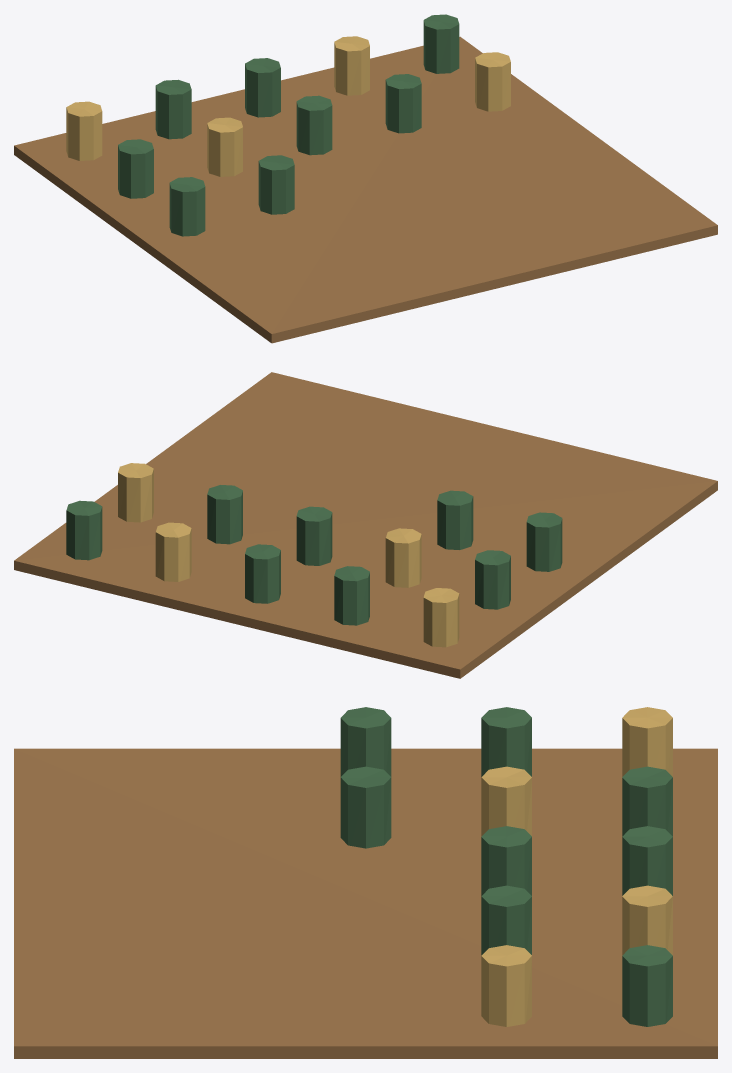
File: forest-reserve.source.glb
The picture shows the model from 3 angles, top to bottom: view 1: azimuth 30°, elevation 25°; view 2: azimuth 150°, elevation 25°; view 3: azimuth 270°, elevation 25°; orthographic projection. The views are drawn at different scales.
Visible parts, largest first — view 1: forest-reserve-ground-mesh, forest-reserve-plant-10-mesh, forest-reserve-plant-4-mesh, forest-reserve-plant-7-mesh, forest-reserve-plant-11-mesh, forest-reserve-plant-1-mesh, forest-reserve-plant-0-mesh, forest-reserve-plant-8-mesh, forest-reserve-plant-9-mesh, forest-reserve-plant-3-mesh, forest-reserve-plant-5-mesh, forest-reserve-plant-2-mesh (+1 smaller); view 2: forest-reserve-ground-mesh, forest-reserve-plant-10-mesh, forest-reserve-plant-6-mesh, forest-reserve-plant-4-mesh, forest-reserve-plant-3-mesh, forest-reserve-plant-7-mesh, forest-reserve-plant-11-mesh, forest-reserve-plant-0-mesh, forest-reserve-plant-2-mesh, forest-reserve-plant-5-mesh, forest-reserve-plant-1-mesh, forest-reserve-plant-8-mesh (+1 smaller); view 3: forest-reserve-ground-mesh, forest-reserve-plant-11-mesh, forest-reserve-plant-4-mesh, forest-reserve-plant-9-mesh, forest-reserve-plant-10-mesh, forest-reserve-plant-1-mesh, forest-reserve-plant-3-mesh, forest-reserve-plant-5-mesh, forest-reserve-plant-7-mesh, forest-reserve-plant-6-mesh, forest-reserve-plant-8-mesh, forest-reserve-plant-0-mesh (+1 smaller).
Boxes of the visible parts, box(x1,y1,x2,y2) form: forest-reserve-ground-mesh: box(14, 36, 717, 343); forest-reserve-plant-10-mesh: box(169, 177, 205, 236); forest-reserve-plant-4-mesh: box(423, 14, 459, 73); forest-reserve-plant-7-mesh: box(296, 95, 332, 155); forest-reserve-plant-11-mesh: box(258, 155, 294, 214); forest-reserve-plant-1-mesh: box(155, 79, 191, 139); forest-reserve-plant-0-mesh: box(66, 101, 102, 160); forest-reserve-plant-8-mesh: box(385, 74, 421, 133); forest-reserve-plant-9-mesh: box(475, 52, 510, 111); forest-reserve-plant-3-mesh: box(334, 36, 369, 95); forest-reserve-plant-5-mesh: box(118, 139, 153, 198); forest-reserve-plant-2-mesh: box(245, 58, 280, 117); forest-reserve-ground-mesh: box(14, 372, 717, 678); forest-reserve-plant-10-mesh: box(526, 512, 562, 571); forest-reserve-plant-6-mesh: box(385, 528, 421, 587); forest-reserve-plant-4-mesh: box(66, 500, 102, 560); forest-reserve-plant-3-mesh: box(155, 522, 191, 581); forest-reserve-plant-7-mesh: box(296, 506, 332, 565); forest-reserve-plant-11-mesh: box(437, 490, 473, 549); forest-reserve-plant-0-mesh: box(423, 588, 459, 647); forest-reserve-plant-2-mesh: box(245, 544, 280, 603); forest-reserve-plant-5-mesh: box(475, 550, 510, 609); forest-reserve-plant-1-mesh: box(334, 566, 369, 625); forest-reserve-plant-8-mesh: box(207, 485, 242, 544); forest-reserve-ground-mesh: box(14, 748, 717, 1058); forest-reserve-plant-11-mesh: box(340, 766, 391, 848); forest-reserve-plant-4-mesh: box(622, 945, 672, 1026); forest-reserve-plant-9-mesh: box(481, 945, 531, 1026); forest-reserve-plant-10-mesh: box(340, 707, 391, 776); forest-reserve-plant-1-mesh: box(622, 766, 672, 836); forest-reserve-plant-3-mesh: box(622, 885, 672, 955); forest-reserve-plant-5-mesh: box(481, 707, 531, 776); forest-reserve-plant-7-mesh: box(481, 826, 531, 895); forest-reserve-plant-6-mesh: box(481, 766, 531, 836); forest-reserve-plant-8-mesh: box(481, 885, 531, 955); forest-reserve-plant-0-mesh: box(622, 707, 672, 776).
Bounding box in the file's own units: 5 × 0.575 × 5.
